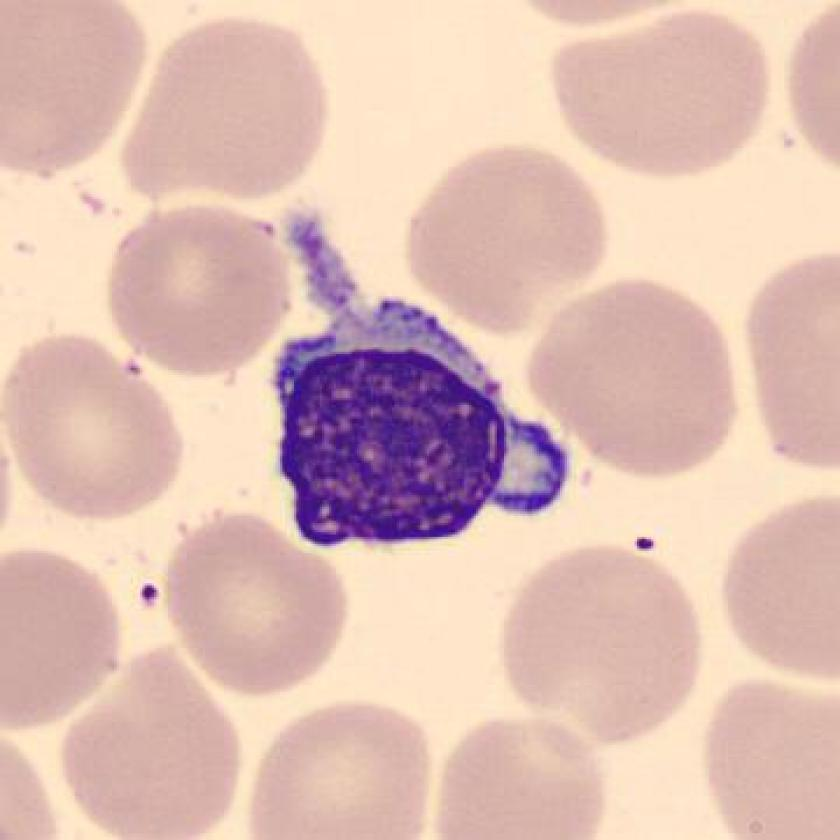lymphocyte: (244, 196, 584, 585)
